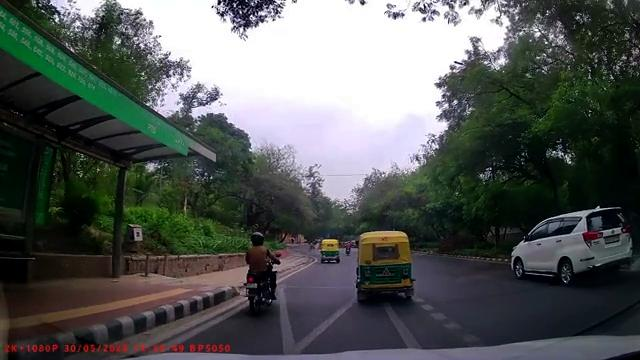motorcycle_with_helmet: (242, 231, 279, 316)
